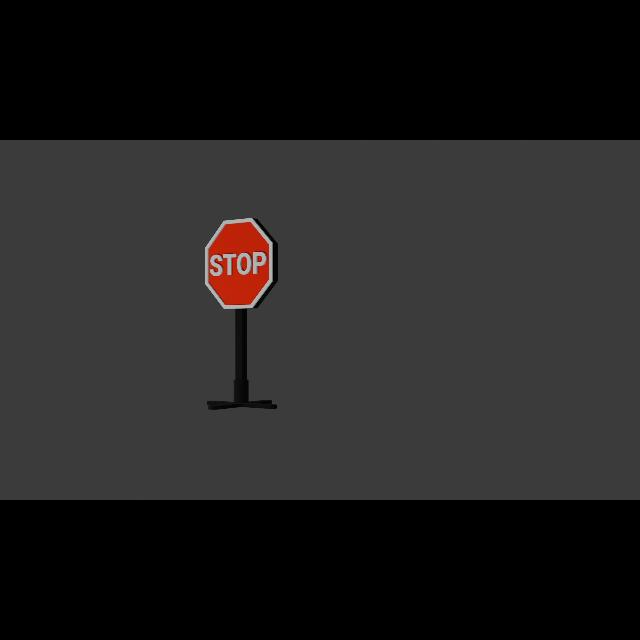sign_stop: (205, 218, 276, 310)
